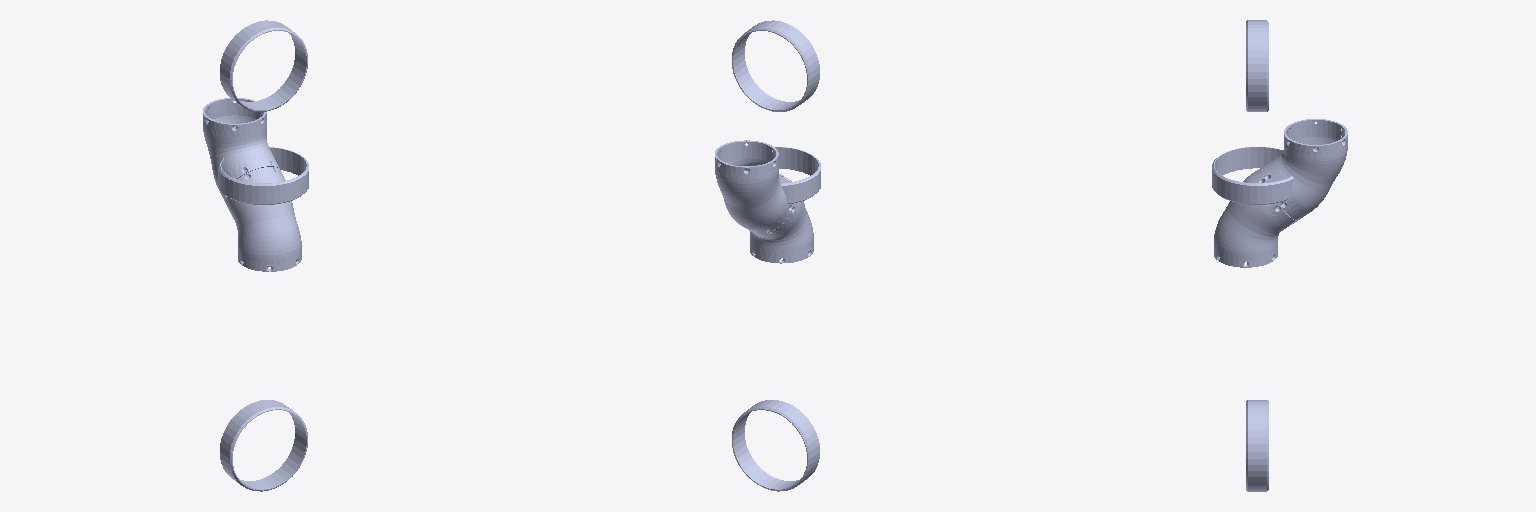
The robot description file, URDF, robot "jaco":
<?xml version="1.0" ?>
<!-- =================================================================================== -->
<!-- |    This document was autogenerated by xacro from jaco_description/robots/standalone_arm.urdf.xacro | -->
<!-- |    EDITING THIS FILE BY HAND IS NOT RECOMMENDED                                 | -->
<!-- =================================================================================== -->
<robot name="jaco" xmlns:body="http://playerstage.sourceforge.net/gazebo/xmlschema/#body" xmlns:controller="http://playerstage.sourceforge.net/gazebo/xmlschema/#controller" xmlns:gazebo="http://playerstage.sourceforge.net/gazebo/xmlschema/#gz" xmlns:geom="http://playerstage.sourceforge.net/gazebo/xmlschema/#geom" xmlns:interface="http://playerstage.sourceforge.net/gazebo/xmlschema/#interface" xmlns:joint="http://playerstage.sourceforge.net/gazebo/xmlschema/#joint" xmlns:model="http://playerstage.sourceforge.net/gazebo/xmlschema/#model" xmlns:physics="http://playerstage.sourceforge.net/gazebo/xmlschema/#physics" xmlns:renderable="http://playerstage.sourceforge.net/gazebo/xmlschema/#renderable" xmlns:rendering="http://playerstage.sourceforge.net/gazebo/xmlschema/#rendering" xmlns:sensor="http://playerstage.sourceforge.net/gazebo/xmlschema/#sensor" xmlns:xacro="http://ros.org/wiki/xacro" xmlns:xi="http://www.w3.org/2001/XInclude">
  <link name="root">
    <visual>
      <origin rpy="0 0 0" xyz="0 0 0"/>
      <geometry>
        <box size="0 0 0"/>
      </geometry>
    </visual>
    <collision>
      <origin rpy="0 0 0" xyz="0 0 0"/>
      <geometry>
        <box size="0 0 0"/>
      </geometry>
    </collision>
  </link>
  <link name="jaco_link_base">
    <visual>
      <geometry>
        <mesh filename="package://jaco_description/meshes/jaco_link_base.min.dae" scale="0.0254 0.0254 0.0254"/>
      </geometry>
      <material name="carbon_fiber">
        <color rgba="0.792156862745098 0.819607843137255 0.933333333333333 1"/>
      </material>
    </visual>
    <collision>
      <geometry>
        <mesh filename="package://jaco_description/meshes/jaco_link_base.stl" scale="0.0254 0.0254 0.0254"/>
      </geometry>
    </collision>
  </link>
  <joint name="jaco_joint_base" type="fixed">
    <parent link="root"/>
    <child link="jaco_link_base"/>
    <axis xyz="0 0 0"/>
    <origin rpy="0 0 0" xyz="0 0 0"/>
    <limit effort="30" lower="-6.28318530718" upper="6.28318530718" velocity="5"/>
  </joint>
  <link name="jaco_link_1">
    <visual>
      <geometry>
        <mesh filename="package://jaco_description/meshes/jaco_link_1.min.dae" scale="0.0254 0.0254 0.0254"/>
      </geometry>
      <material name="carbon_fiber">
        <color rgba="0.792156862745098 0.819607843137255 0.933333333333333 1"/>
      </material>
    </visual>
    <collision>
      <geometry>
        <mesh filename="package://jaco_description/meshes/jaco_link_1.stl" scale="0.0254 0.0254 0.0254"/>
      </geometry>
    </collision>
  </link>
  <joint name="jaco_joint_1" type="revolute">
    <parent link="jaco_link_base"/>
    <child link="jaco_link_1"/>
    <axis xyz="0 0 1"/>
    <origin rpy="3.14159265359 0 0" xyz="0 0 0.1535"/>
    <limit effort="30" lower="-6.28318530718" upper="6.28318530718" velocity="5"/>
  </joint>
  <link name="jaco_link_2">
    <visual>
      <geometry>
        <mesh filename="package://jaco_description/meshes/jaco_link_2.min.dae" scale="0.0254 0.0254 0.0254"/>
      </geometry>
      <material name="carbon_fiber">
        <color rgba="0.792156862745098 0.819607843137255 0.933333333333333 1"/>
      </material>
    </visual>
    <collision>
      <geometry>
        <mesh filename="package://jaco_description/meshes/jaco_link_2.stl" scale="0.0254 0.0254 0.0254"/>
      </geometry>
    </collision>
  </link>
  <joint name="jaco_joint_2" type="revolute">
    <parent link="jaco_link_1"/>
    <child link="jaco_link_2"/>
    <axis xyz="0 0 1"/>
    <origin rpy="-1.57079632679 -1.57079632679 0" xyz="0 0 -0.1185"/>
    <limit effort="30" lower="0" upper="6.28318530718" velocity="5"/>
  </joint>
  <link name="jaco_link_3">
    <visual>
      <geometry>
        <mesh filename="package://jaco_description/meshes/jaco_link_3.min.dae" scale="0.0254 0.0254 0.0254"/>
      </geometry>
      <material name="carbon_fiber">
        <color rgba="0.792156862745098 0.819607843137255 0.933333333333333 1"/>
      </material>
    </visual>
    <collision>
      <geometry>
        <mesh filename="package://jaco_description/meshes/jaco_link_3.stl" scale="0.0254 0.0254 0.0254"/>
      </geometry>
    </collision>
  </link>
  <joint name="jaco_joint_3" type="revolute">
    <parent link="jaco_link_2"/>
    <child link="jaco_link_3"/>
    <axis xyz="0 0 1"/>
    <origin rpy="3.14159265359 0 3.14159265359" xyz="0.41 0 0"/>
    <limit effort="30" lower="0" upper="6.28318530718" velocity="5"/>
  </joint>
  <link name="jaco_link_4">
    <visual>
      <geometry>
        <mesh filename="package://jaco_description/meshes/jaco_link_4_5.min.dae" scale="0.0254 0.0254 0.0254"/>
      </geometry>
      <material name="carbon_fiber">
        <color rgba="0.792156862745098 0.819607843137255 0.933333333333333 1"/>
      </material>
    </visual>
    <collision>
      <geometry>
        <mesh filename="package://jaco_description/meshes/jaco_link_4_5.stl" scale="0.0254 0.0254 0.0254"/>
      </geometry>
    </collision>
  </link>
  <joint name="jaco_joint_4" type="revolute">
    <parent link="jaco_link_3"/>
    <child link="jaco_link_4"/>
    <axis xyz="0 0 1"/>
    <origin rpy="0 -1.57079632679 0" xyz="0.207 0 -0.01125"/>
    <limit effort="30" lower="-6.28318530718" upper="6.28318530718" velocity="5"/>
  </joint>
  <link name="jaco_link_5">
    <visual>
      <geometry>
        <mesh filename="package://jaco_description/meshes/jaco_link_4_5.min.dae" scale="0.0254 0.0254 0.0254"/>
      </geometry>
      <material name="carbon_fiber">
        <color rgba="0.792156862745098 0.819607843137255 0.933333333333333 1"/>
      </material>
    </visual>
    <collision>
      <geometry>
        <mesh filename="package://jaco_description/meshes/jaco_link_4_5.stl" scale="0.0254 0.0254 0.0254"/>
      </geometry>
    </collision>
  </link>
  <joint name="jaco_joint_5" type="revolute">
    <parent link="jaco_link_4"/>
    <child link="jaco_link_5"/>
    <axis xyz="0 0 1"/>
    <origin rpy="0 0.959931088597 3.14159265359" xyz="0.0343 0 -0.06588"/>
    <limit effort="30" lower="-6.28318530718" upper="6.28318530718" velocity="5"/>
  </joint>
  <link name="jaco_link_hand">
    <visual>
      <geometry>
        <mesh filename="package://jaco_description/meshes/jaco_link_hand.min.dae" scale="0.0254 0.0254 0.0254"/>
      </geometry>
      <material name="carbon_fiber">
        <color rgba="0.792156862745098 0.819607843137255 0.933333333333333 1"/>
      </material>
    </visual>
    <collision>
      <geometry>
        <mesh filename="package://jaco_description/meshes/jaco_link_hand.stl" scale="0.0254 0.0254 0.0254"/>
      </geometry>
    </collision>
  </link>
  <joint name="jaco_joint_6" type="revolute">
    <parent link="jaco_link_5"/>
    <child link="jaco_link_hand"/>
    <axis xyz="0 0 1"/>
    <origin rpy="0 0.959931088597 3.14159265359" xyz="0.0343 0 -0.06588"/>
    <limit effort="30" lower="-6.28318530718" upper="6.28318530718" velocity="5"/>
  </joint>
  <link name="jaco_large_ring_cover_1">
    <visual>
      <geometry>
        <mesh filename="package://jaco_description/meshes/jaco_large_ring_cover.min.dae" scale="0.0254 0.0254 0.0254"/>
      </geometry>
      <material name="carbon_fiber">
        <color rgba="0.792156862745098 0.819607843137255 0.933333333333333 1"/>
      </material>
    </visual>
    <collision>
      <geometry>
        <mesh filename="package://jaco_description/meshes/jaco_large_ring_cover.stl" scale="0.0254 0.0254 0.0254"/>
      </geometry>
    </collision>
  </link>
  <joint name="jaco_large_ring_cover_1_joint" type="fixed">
    <parent link="jaco_link_base"/>
    <child link="jaco_large_ring_cover_1"/>
    <axis xyz="0 0 1"/>
    <origin rpy="3.14159265359 0 0" xyz="0 0 0.1535"/>
    <limit effort="30" lower="-6.28318530718" upper="6.28318530718" velocity="5"/>
  </joint>
  <link name="jaco_large_ring_cover_2">
    <visual>
      <geometry>
        <mesh filename="package://jaco_description/meshes/jaco_large_ring_cover.min.dae" scale="0.0254 0.0254 0.0254"/>
      </geometry>
      <material name="carbon_fiber">
        <color rgba="0.792156862745098 0.819607843137255 0.933333333333333 1"/>
      </material>
    </visual>
    <collision>
      <geometry>
        <mesh filename="package://jaco_description/meshes/jaco_large_ring_cover.stl" scale="0.0254 0.0254 0.0254"/>
      </geometry>
    </collision>
  </link>
  <joint name="jaco_large_ring_cover_2_joint" type="fixed">
    <parent link="jaco_link_1"/>
    <child link="jaco_large_ring_cover_2"/>
    <axis xyz="0 0 1"/>
    <origin rpy="-1.57079632679 -1.57079632679 0" xyz="0 0 -0.1185"/>
    <limit effort="30" lower="0" upper="6.28318530718" velocity="5"/>
  </joint>
  <link name="jaco_large_ring_cover_3">
    <visual>
      <geometry>
        <mesh filename="package://jaco_description/meshes/jaco_large_ring_cover.min.dae" scale="0.0254 0.0254 0.0254"/>
      </geometry>
      <material name="carbon_fiber">
        <color rgba="0.792156862745098 0.819607843137255 0.933333333333333 1"/>
      </material>
    </visual>
    <collision>
      <geometry>
        <mesh filename="package://jaco_description/meshes/jaco_large_ring_cover.stl" scale="0.0254 0.0254 0.0254"/>
      </geometry>
    </collision>
  </link>
  <joint name="jaco_large_ring_cover_3_joint" type="fixed">
    <parent link="jaco_link_2"/>
    <child link="jaco_large_ring_cover_3"/>
    <axis xyz="0 0 1"/>
    <origin rpy="3.14159265359 0 3.14159265359" xyz="0.41 0 0"/>
    <limit effort="30" lower="0" upper="6.28318530718" velocity="5"/>
  </joint>
  <link name="jaco_small_ring_cover_1">
    <visual>
      <geometry>
        <mesh filename="package://jaco_description/meshes/jaco_small_ring_cover.min.dae" scale="0.0254 0.0254 0.0254"/>
      </geometry>
      <material name="carbon_fiber">
        <color rgba="0.792156862745098 0.819607843137255 0.933333333333333 1"/>
      </material>
    </visual>
    <collision>
      <geometry>
        <mesh filename="package://jaco_description/meshes/jaco_small_ring_cover.stl" scale="0.0254 0.0254 0.0254"/>
      </geometry>
    </collision>
  </link>
  <joint name="jaco_large_ring_cover_4_joint" type="fixed">
    <parent link="jaco_link_3"/>
    <child link="jaco_small_ring_cover_1"/>
    <axis xyz="0 0 1"/>
    <origin rpy="0 -1.57079632679 0" xyz="0.207 0 -0.01125"/>
    <limit effort="30" lower="-6.28318530718" upper="6.28318530718" velocity="5"/>
  </joint>
  <link name="jaco_small_ring_cover_2">
    <visual>
      <geometry>
        <mesh filename="package://jaco_description/meshes/jaco_small_ring_cover.min.dae" scale="0.0254 0.0254 0.0254"/>
      </geometry>
      <material name="carbon_fiber">
        <color rgba="0.792156862745098 0.819607843137255 0.933333333333333 1"/>
      </material>
    </visual>
    <collision>
      <geometry>
        <mesh filename="package://jaco_description/meshes/jaco_small_ring_cover.stl" scale="0.0254 0.0254 0.0254"/>
      </geometry>
    </collision>
  </link>
  <joint name="jaco_large_ring_cover_5_joint" type="fixed">
    <parent link="jaco_link_4"/>
    <child link="jaco_small_ring_cover_2"/>
    <axis xyz="0 0 1"/>
    <origin rpy="0 0.959931088597 3.14159265359" xyz="0.0343 0 -0.06588"/>
    <limit effort="30" lower="-6.28318530718" upper="6.28318530718" velocity="5"/>
  </joint>
  <link name="jaco_small_ring_cover_3">
    <visual>
      <geometry>
        <mesh filename="package://jaco_description/meshes/jaco_small_ring_cover.min.dae" scale="0.0254 0.0254 0.0254"/>
      </geometry>
      <material name="carbon_fiber">
        <color rgba="0.792156862745098 0.819607843137255 0.933333333333333 1"/>
      </material>
    </visual>
    <collision>
      <geometry>
        <mesh filename="package://jaco_description/meshes/jaco_small_ring_cover.stl" scale="0.0254 0.0254 0.0254"/>
      </geometry>
    </collision>
  </link>
  <joint name="jaco_large_ring_cover_6_joint" type="fixed">
    <parent link="jaco_link_5"/>
    <child link="jaco_small_ring_cover_3"/>
    <axis xyz="0 0 1"/>
    <origin rpy="0 0.959931088597 3.14159265359" xyz="0.0343 0 -0.06588"/>
    <limit effort="30" lower="-6.28318530718" upper="6.28318530718" velocity="5"/>
  </joint>
  <link name="jaco_link_finger_1">
    <visual>
      <geometry>
        <mesh filename="package://jaco_description/meshes/jaco_link_finger.min.dae" scale="0.0254 0.0254 0.0254"/>
      </geometry>
      <material name="carbon_fiber">
        <color rgba="0.792156862745098 0.819607843137255 0.933333333333333 1"/>
      </material>
    </visual>
    <collision>
      <geometry>
        <mesh filename="package://jaco_description/meshes/jaco_link_finger.stl" scale="0.0254 0.0254 0.0254"/>
      </geometry>
    </collision>
  </link>
  <joint name="jaco_joint_finger_1" type="revolute">
    <parent link="jaco_link_hand"/>
    <child link="jaco_link_finger_1"/>
    <axis xyz="0 0 1"/>
    <origin rpy="-1.7983 1.117 3.1416" xyz="-0.032578 0.0033 -0.12131"/>
    <limit effort="30" lower="0" upper="0.698131700798" velocity="5"/>
  </joint>
  <link name="jaco_link_finger_2">
    <visual>
      <geometry>
        <mesh filename="package://jaco_description/meshes/jaco_link_finger.min.dae" scale="0.0254 0.0254 0.0254"/>
      </geometry>
      <material name="carbon_fiber">
        <color rgba="0.792156862745098 0.819607843137255 0.933333333333333 1"/>
      </material>
    </visual>
    <collision>
      <geometry>
        <mesh filename="package://jaco_description/meshes/jaco_link_finger.stl" scale="0.0254 0.0254 0.0254"/>
      </geometry>
    </collision>
  </link>
  <joint name="jaco_joint_finger_2" type="revolute">
    <parent link="jaco_link_hand"/>
    <child link="jaco_link_finger_2"/>
    <axis xyz="0 0 1"/>
    <origin rpy="-1.5161 1.1459 0.23978" xyz="0.027788 0.0206 -0.12131"/>
    <limit effort="30" lower="0" upper="0.698131700798" velocity="5"/>
  </joint>
  <link name="jaco_link_finger_3">
    <visual>
      <geometry>
        <mesh filename="package://jaco_description/meshes/jaco_link_finger.min.dae" scale="0.0254 0.0254 0.0254"/>
      </geometry>
      <material name="carbon_fiber">
        <color rgba="0.792156862745098 0.819607843137255 0.933333333333333 1"/>
      </material>
    </visual>
    <collision>
      <geometry>
        <mesh filename="package://jaco_description/meshes/jaco_link_finger.stl" scale="0.0254 0.0254 0.0254"/>
      </geometry>
    </collision>
  </link>
  <joint name="jaco_joint_finger_3" type="revolute">
    <parent link="jaco_link_hand"/>
    <child link="jaco_link_finger_3"/>
    <axis xyz="0 0 1"/>
    <origin rpy="-1.6222 1.117 -0.23615" xyz="0.027788 -0.0206 -0.12131"/>
    <limit effort="30" lower="0" upper="0.698131700798" velocity="5"/>
  </joint>
  <link name="jaco_link_finger_tip_1">
    <visual>
      <geometry>
        <mesh filename="package://jaco_description/meshes/jaco_link_finger_tip.min.dae" scale="0.0254 0.0254 0.0254"/>
      </geometry>
      <material name="carbon_fiber">
        <color rgba="0.792156862745098 0.819607843137255 0.933333333333333 1"/>
      </material>
    </visual>
    <collision>
      <geometry>
        <mesh filename="package://jaco_description/meshes/jaco_link_finger_tip.stl" scale="0.0254 0.0254 0.0254"/>
      </geometry>
    </collision>
  </link>
  <joint name="jaco_joint_finger_tip_1" type="revolute">
    <parent link="jaco_link_finger_1"/>
    <child link="jaco_link_finger_tip_1"/>
    <axis xyz="0 0 1"/>
    <origin rpy="0 0 0" xyz="0.044094 -0.0029 0"/>
    <limit effort="30" lower="0" upper="0.698131700798" velocity="5"/>
  </joint>
  <link name="jaco_link_finger_tip_2">
    <visual>
      <geometry>
        <mesh filename="package://jaco_description/meshes/jaco_link_finger_tip.min.dae" scale="0.0254 0.0254 0.0254"/>
      </geometry>
      <material name="carbon_fiber">
        <color rgba="0.792156862745098 0.819607843137255 0.933333333333333 1"/>
      </material>
    </visual>
    <collision>
      <geometry>
        <mesh filename="package://jaco_description/meshes/jaco_link_finger_tip.stl" scale="0.0254 0.0254 0.0254"/>
      </geometry>
    </collision>
  </link>
  <joint name="jaco_joint_finger_tip_2" type="revolute">
    <parent link="jaco_link_finger_2"/>
    <child link="jaco_link_finger_tip_2"/>
    <axis xyz="0 0 1"/>
    <origin rpy="0 0 0" xyz="0.044094 -0.0029 0"/>
    <limit effort="30" lower="0" upper="0.698131700798" velocity="5"/>
  </joint>
  <link name="jaco_link_finger_tip_3">
    <visual>
      <geometry>
        <mesh filename="package://jaco_description/meshes/jaco_link_finger_tip.min.dae" scale="0.0254 0.0254 0.0254"/>
      </geometry>
      <material name="carbon_fiber">
        <color rgba="0.792156862745098 0.819607843137255 0.933333333333333 1"/>
      </material>
    </visual>
    <collision>
      <geometry>
        <mesh filename="package://jaco_description/meshes/jaco_link_finger_tip.stl" scale="0.0254 0.0254 0.0254"/>
      </geometry>
    </collision>
  </link>
  <joint name="jaco_joint_finger_tip_3" type="revolute">
    <parent link="jaco_link_finger_3"/>
    <child link="jaco_link_finger_tip_3"/>
    <axis xyz="0 0 1"/>
    <origin rpy="0 0 0" xyz="0.044094 -0.0029 0"/>
    <limit effort="30" lower="0" upper="0.698131700798" velocity="5"/>
  </joint>
</robot>

--- What the picture shows (computed from the rendered views, not written in the file) ---
Views: 3 orthographic renders of the robot side by side, from view 1: azimuth 30°, elevation 25°; view 2: azimuth 150°, elevation 25°; view 3: azimuth 270°, elevation 25°.
Model jaco with 20 links and 19 joints (12 revolute, 7 fixed), rooted at root, posed all joints at 0.
Visible links, largest first — view 1: jaco_link_4, jaco_link_5, jaco_large_ring_cover_2, jaco_large_ring_cover_3, jaco_large_ring_cover_1; view 2: jaco_link_5, jaco_large_ring_cover_3, jaco_large_ring_cover_2, jaco_link_4, jaco_large_ring_cover_1; view 3: jaco_link_5, jaco_link_4, jaco_large_ring_cover_1, jaco_large_ring_cover_2, jaco_large_ring_cover_3.
Boxes of the visible links, x1,y1,x2,y2 form: jaco_link_4: (223, 167, 301, 271); jaco_link_5: (203, 98, 279, 196); jaco_large_ring_cover_2: (220, 20, 307, 111); jaco_large_ring_cover_3: (220, 400, 307, 491); jaco_large_ring_cover_1: (218, 147, 308, 204); jaco_link_5: (715, 140, 792, 232); jaco_large_ring_cover_3: (732, 400, 819, 491); jaco_large_ring_cover_2: (732, 20, 819, 111); jaco_link_4: (749, 175, 813, 263); jaco_large_ring_cover_1: (775, 147, 820, 203); jaco_link_5: (1263, 119, 1347, 220); jaco_link_4: (1214, 167, 1296, 267); jaco_large_ring_cover_1: (1212, 147, 1293, 204); jaco_large_ring_cover_2: (1246, 20, 1268, 111); jaco_large_ring_cover_3: (1246, 400, 1268, 491).
Size in the robot's own frame: 0.0892 by 0.1332 by 0.4992 metres.
Meshes: 10 distinct files referenced, 5 mesh visuals loaded (2 Collada DAE); not drawn: 14 (file found but could not be loaded).